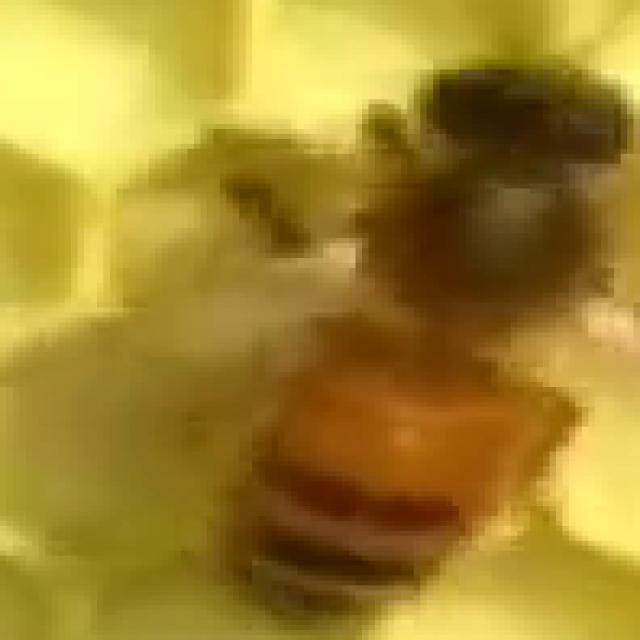honeybee: (240, 61, 640, 630)
